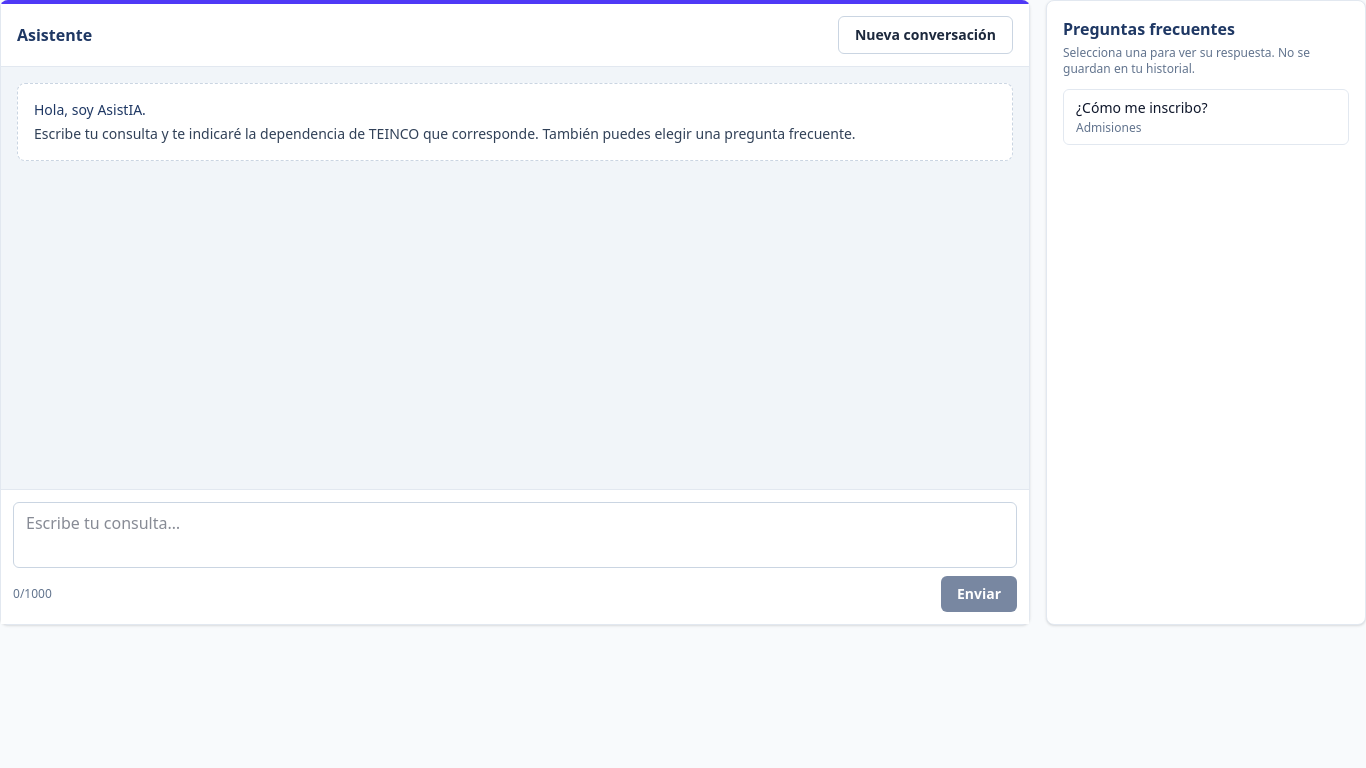
el mismo formato en el chat y en las preguntas frecuentes › una pregunta frecuente se muestra con el mismo formato (respuesta, contacto y dependencia)
The width and height of the screenshot is (1366, 768).
Click the button "¿Cómo me inscribo? Admisiones".
click(1206, 117)  # box [1063,89,1349,145]
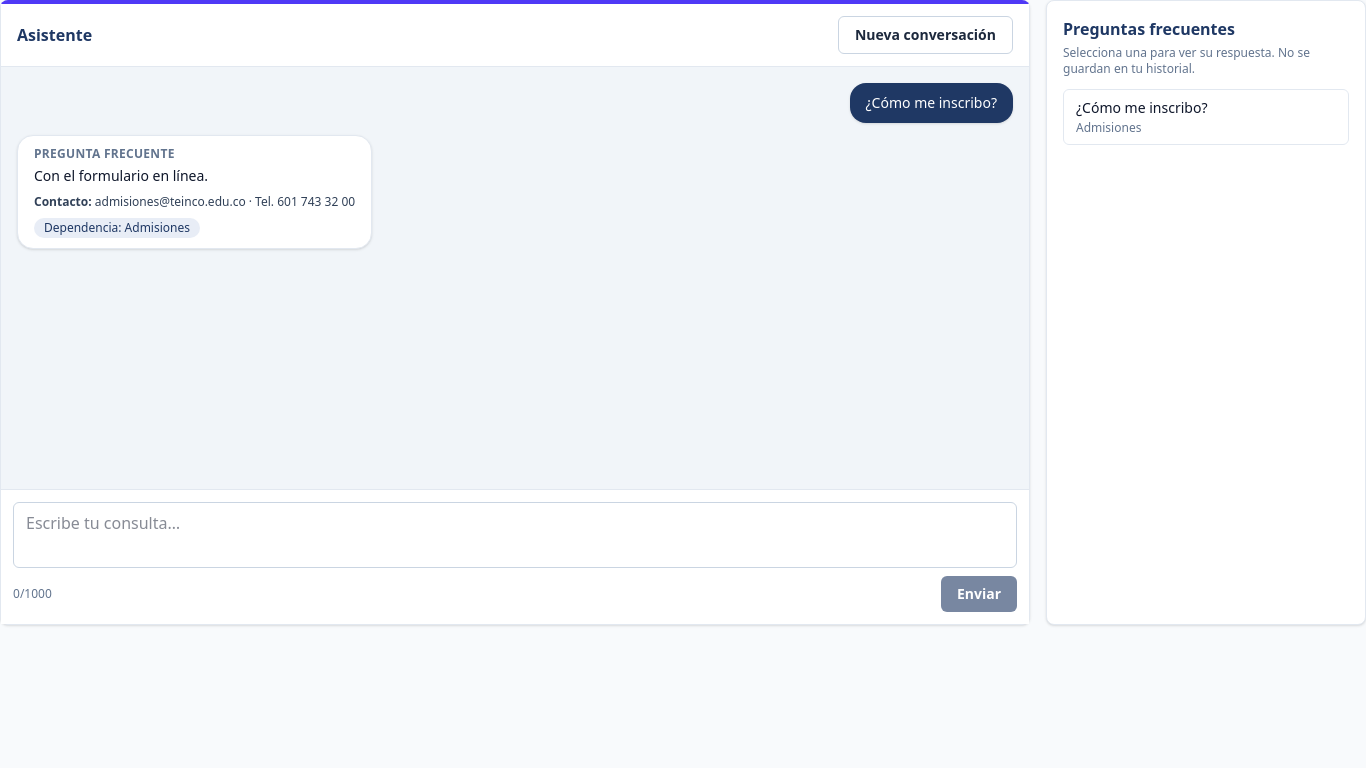
Expected: the text "Pregunta frecuente" is shown, [34,145,175,162]
Now the text "Con el formulario en línea." is shown, box [34,166,208,185]
Now the text "Dependencia: Admisiones" is shown, box [34,218,200,238]
